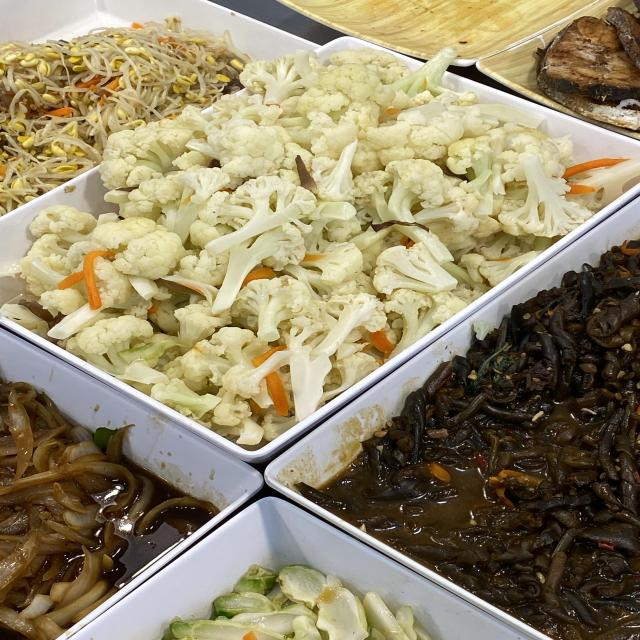cauliflower: (174, 120, 464, 316)
